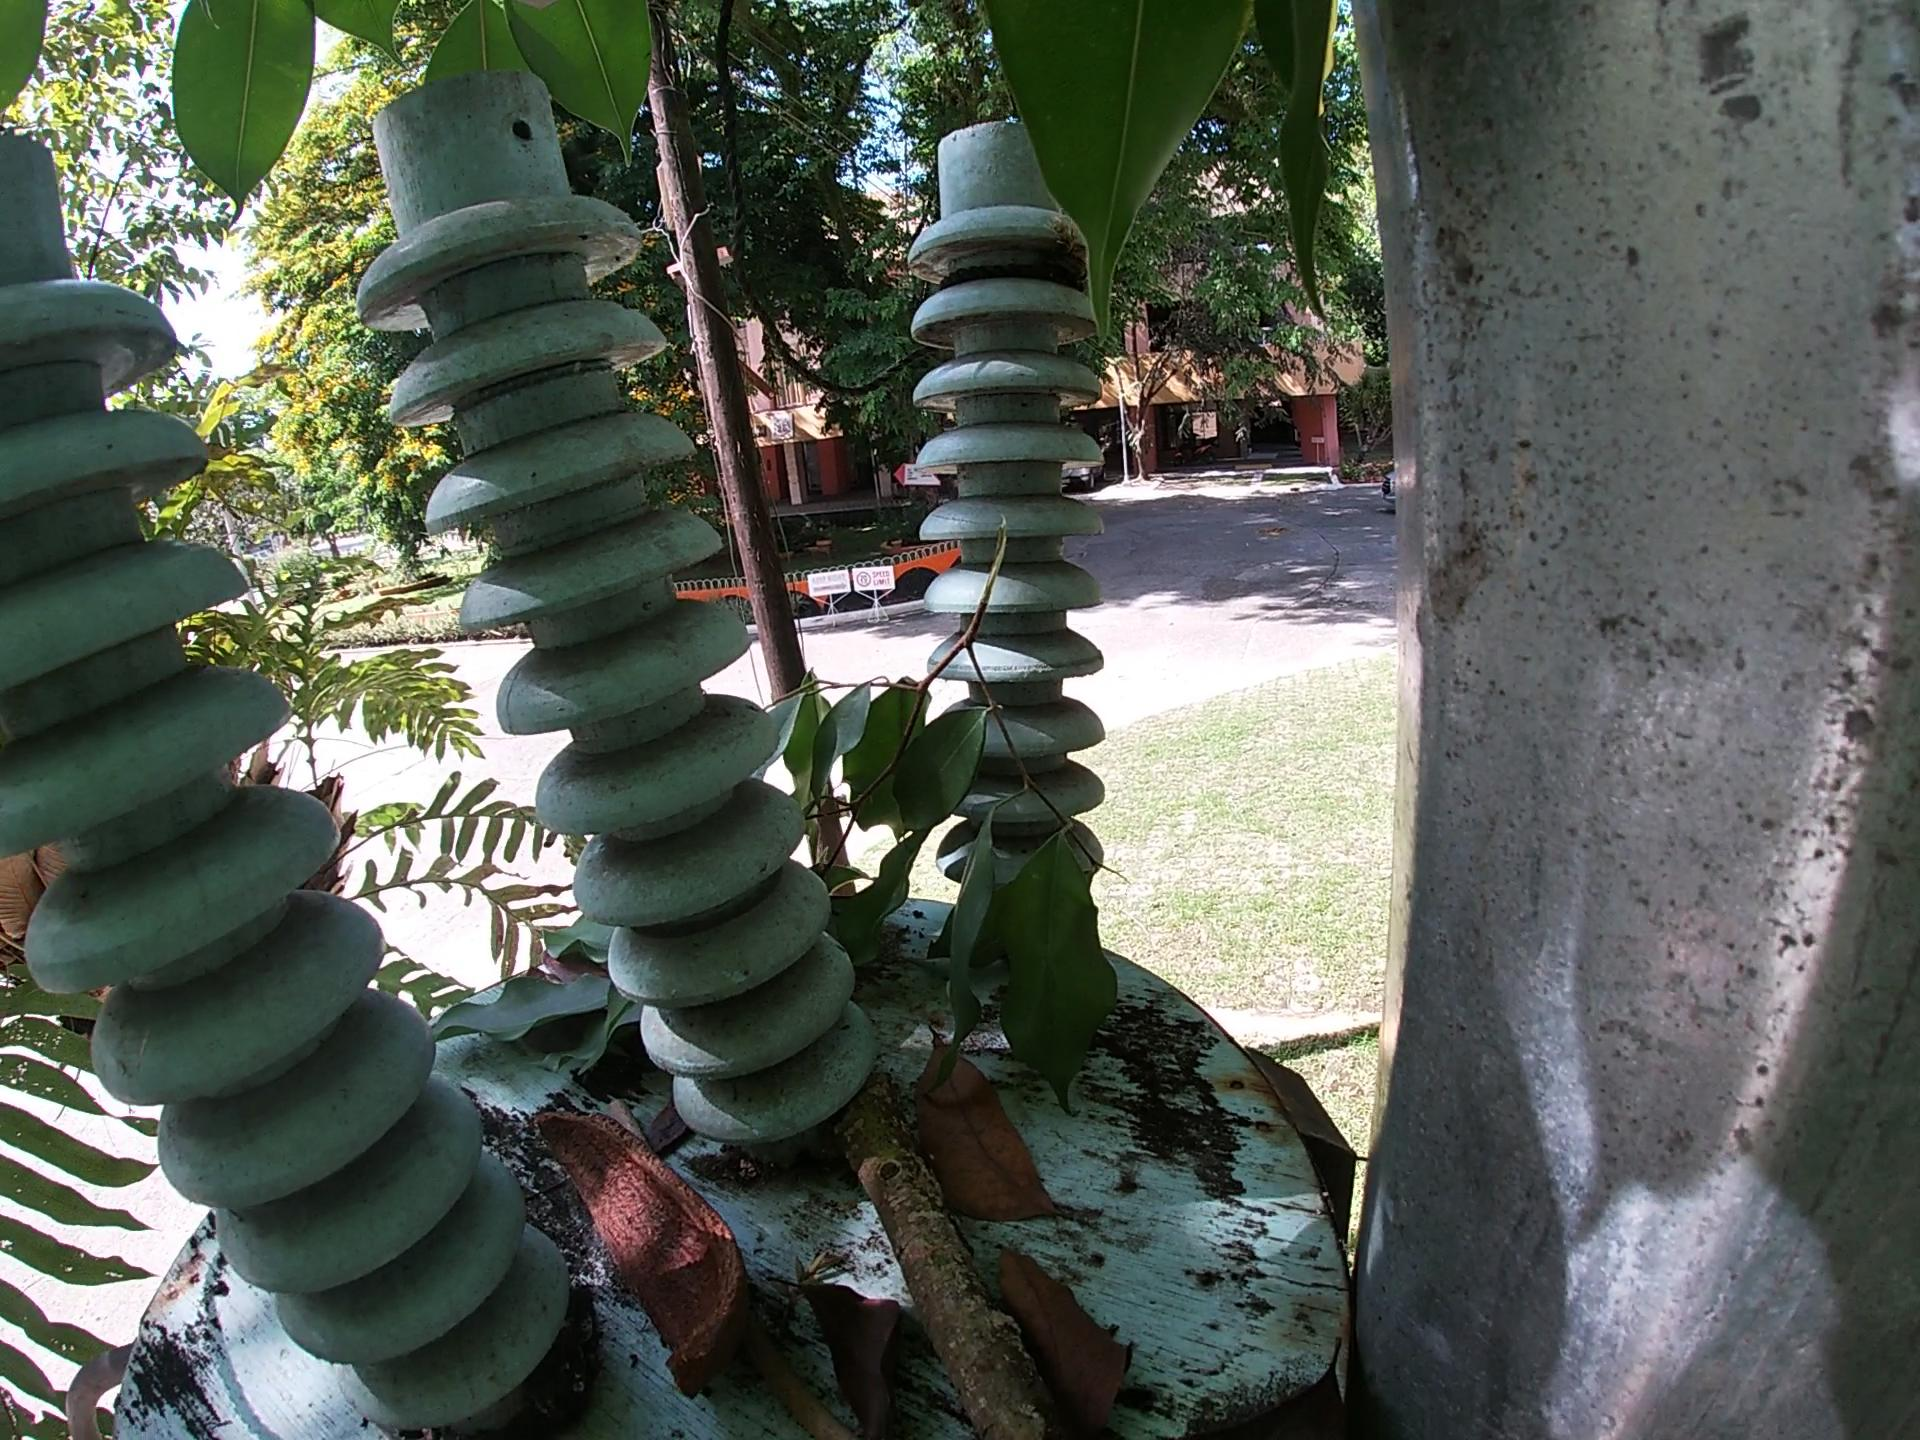branch with leaves: (757, 455, 1119, 1131)
leaf: (906, 1016, 1092, 1245), (434, 909, 656, 1080), (999, 1230, 1147, 1396), (795, 1268, 927, 1429)
mahogany fruit: (525, 1098, 745, 1390)
tree branch: (842, 1109, 1057, 1440), (742, 1277, 847, 1440), (614, 1106, 650, 1162)
